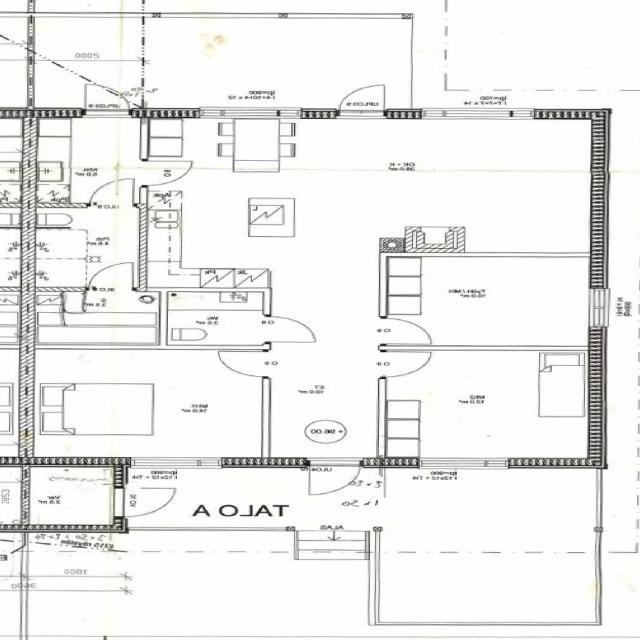door: (309, 457, 360, 496), (113, 488, 176, 516), (338, 83, 384, 118), (84, 83, 129, 118), (379, 351, 432, 377), (379, 318, 431, 344), (88, 262, 132, 291), (263, 317, 314, 342), (89, 180, 132, 208), (220, 352, 270, 376), (138, 161, 188, 185)
